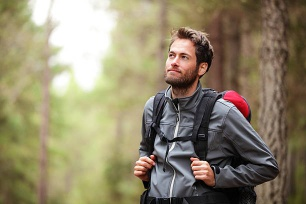male: (162, 29, 205, 94)
